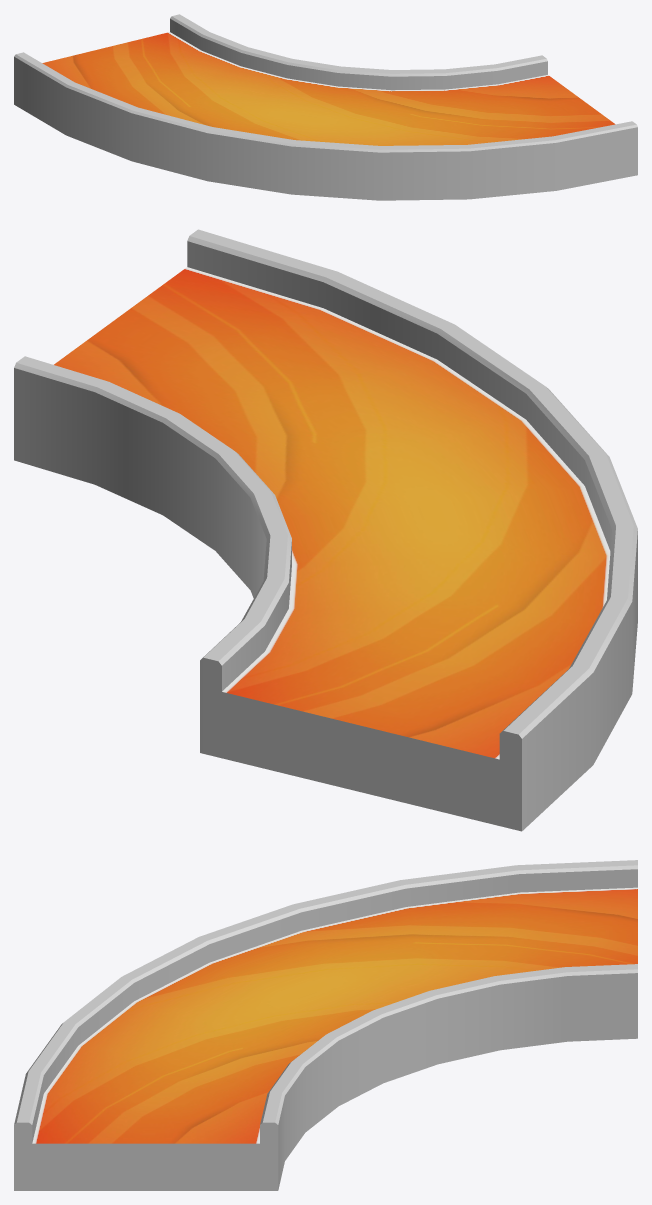
The model's file is PLF0110192.fbx.
3 views of the same model, one above another, from view 1: azimuth 30°, elevation 25°; view 2: azimuth 150°, elevation 25°; view 3: azimuth 270°, elevation 25° (orthographic). The views are drawn at different scales.
Parts seen in each view (by area): view 1: smPLF0110192; view 2: smPLF0110192; view 3: smPLF0110192.
Boxes of the visible parts, x1,y1,x2,y2 form: smPLF0110192: [14, 14, 637, 200]; smPLF0110192: [14, 229, 637, 831]; smPLF0110192: [14, 860, 637, 1190].
Bounding box in the file's own units: 310 × 37.36 × 309.
1 material, 1 textured.
